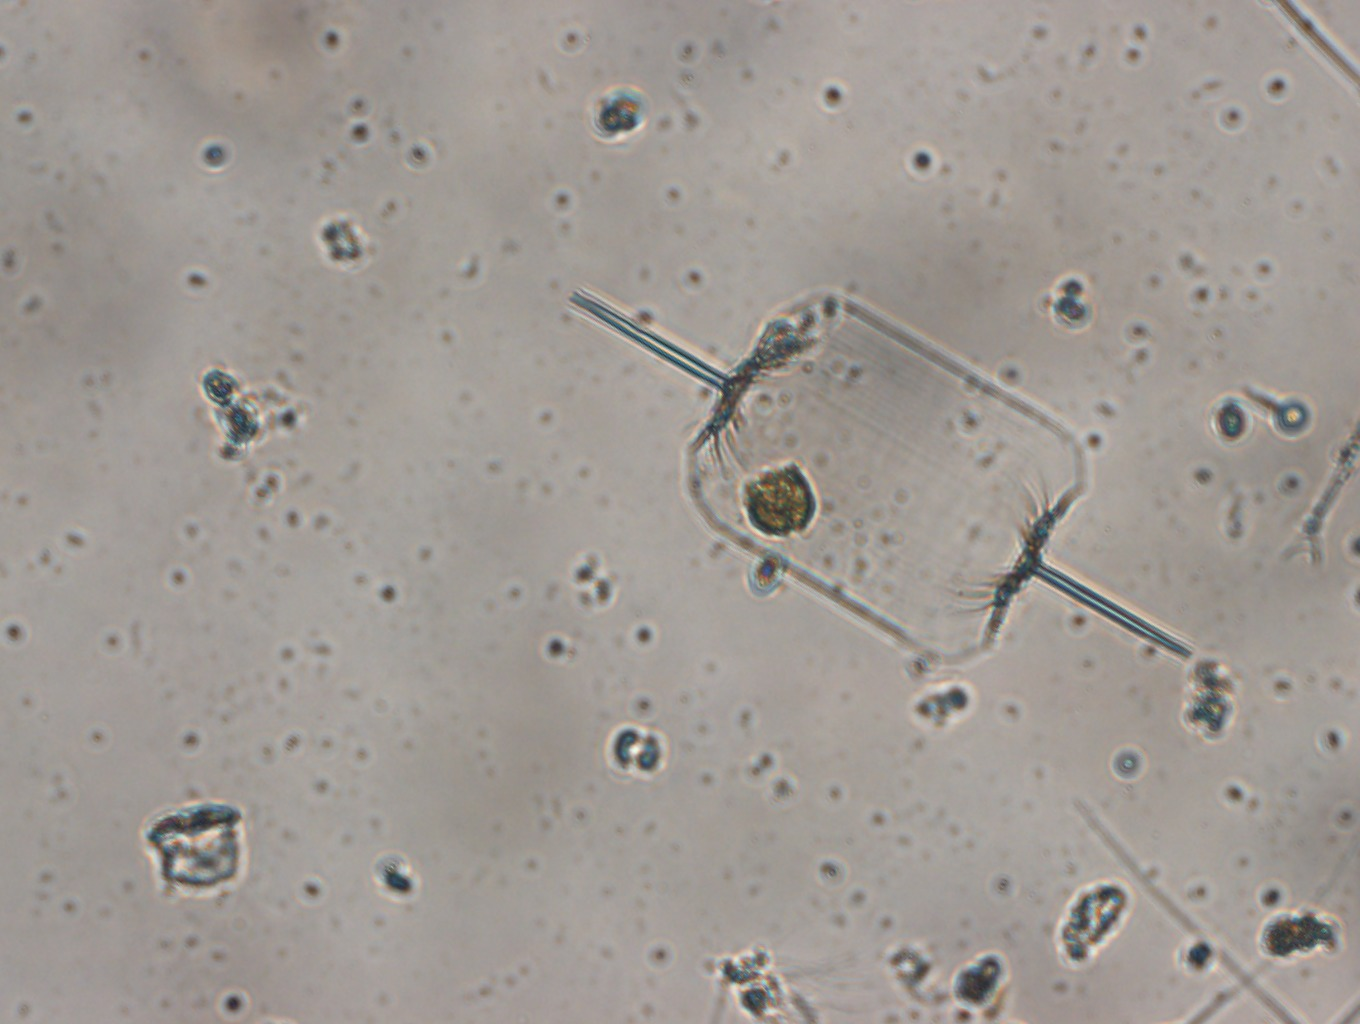ditylum: (559, 278, 1198, 669)
